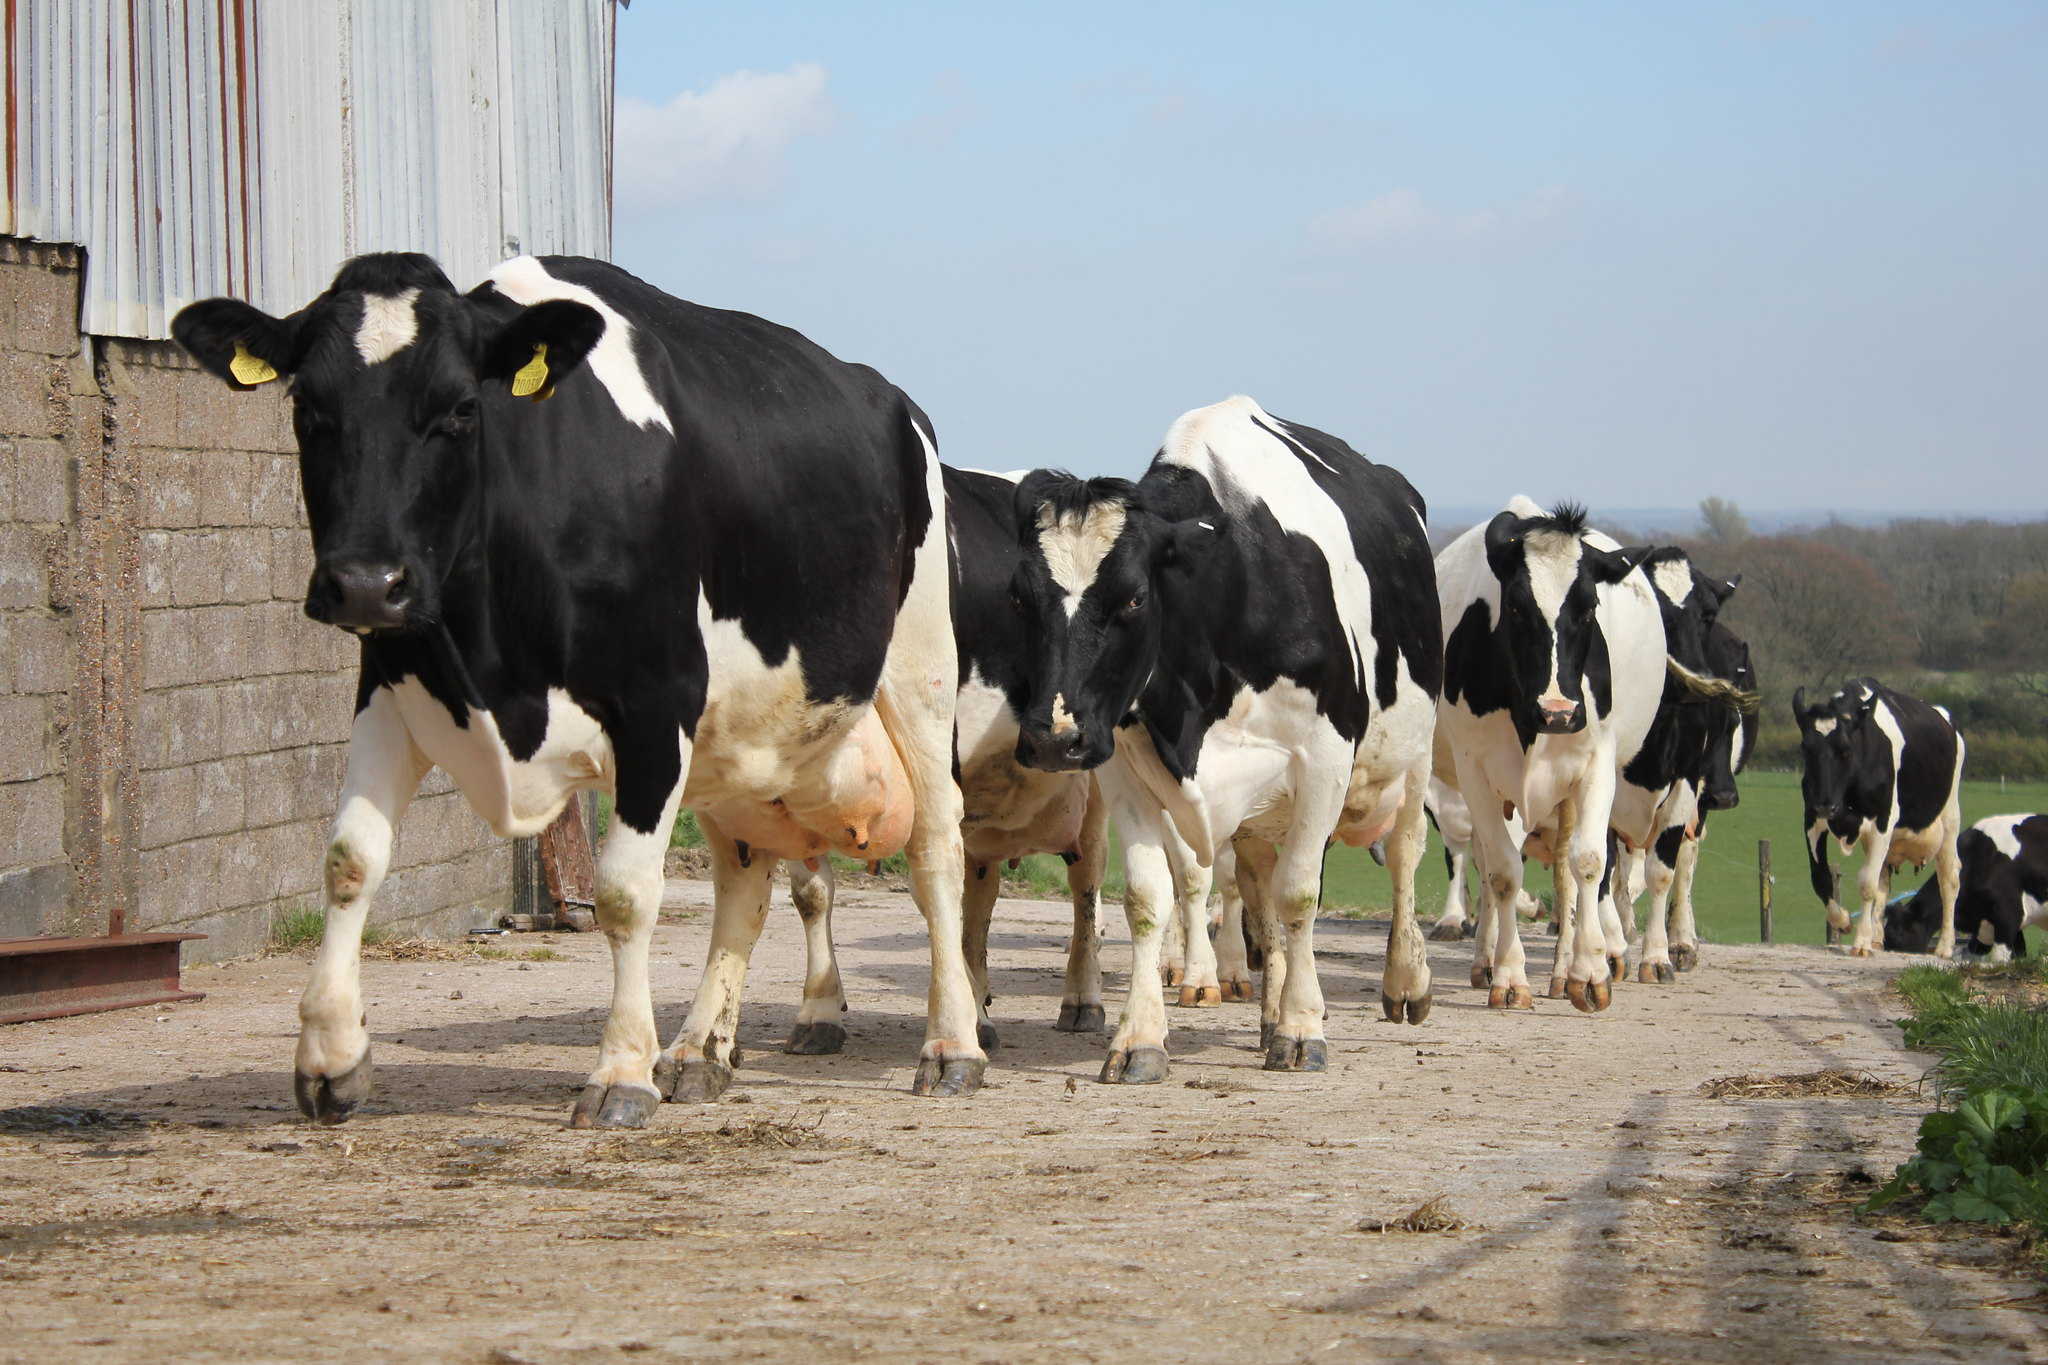cow: (187, 248, 988, 1123), (1017, 395, 1451, 1057), (1440, 491, 1660, 1002), (1794, 663, 1983, 963)
